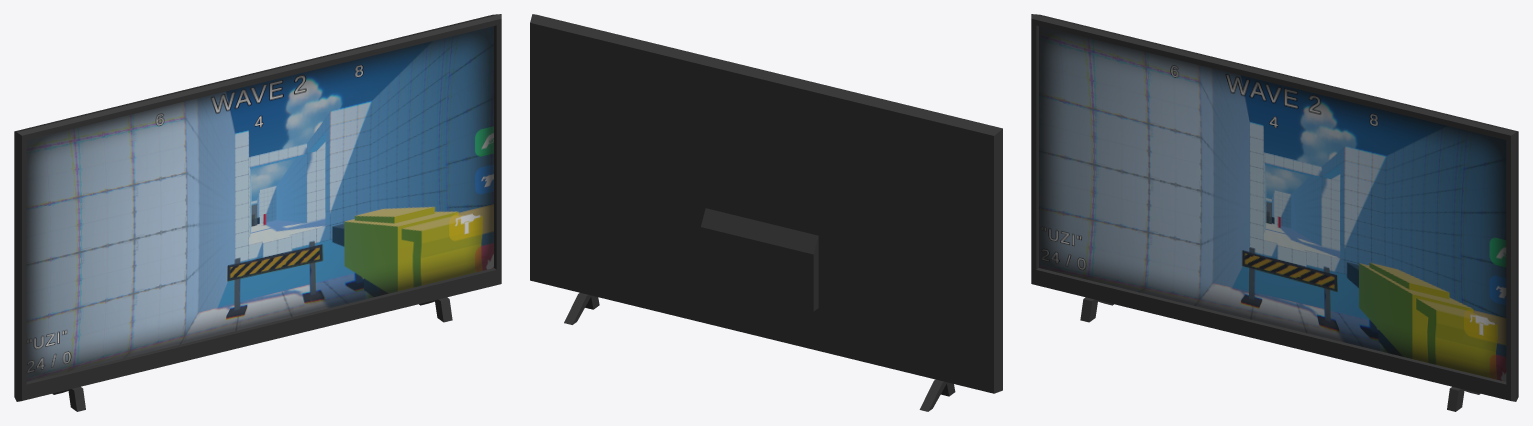
3 views of the same model, side by side, from view 1: azimuth 30°, elevation 25°; view 2: azimuth 150°, elevation 25°; view 3: azimuth 330°, elevation 25° (orthographic). The views are drawn at different scales.
Visible parts, largest first — view 1: TV 1; view 2: TV 1; view 3: TV 1.
Part boxes in pixels (left/top/right/bottom): TV 1: left=14, top=14, right=501, bottom=411; TV 1: left=530, top=14, right=1002, bottom=411; TV 1: left=1031, top=14, right=1518, bottom=411.
Size of the model in its own units: 1.32 by 0.7531 by 0.1324.
2 materials, 2 textured.
